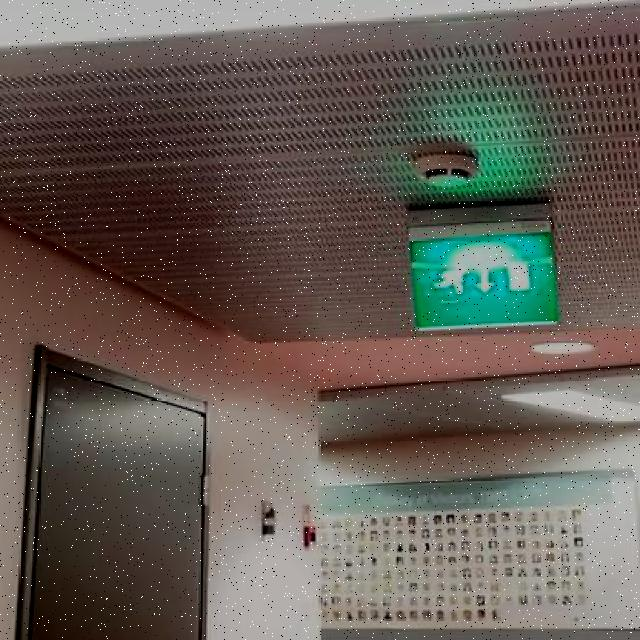emergency_exit: (406, 206, 562, 333)
